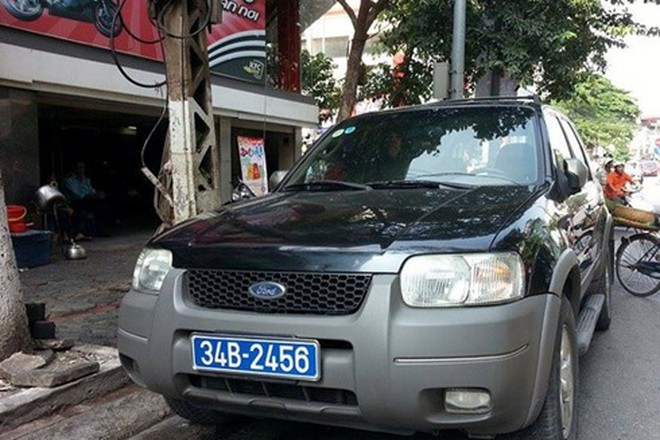plate: (190, 331, 325, 386)
